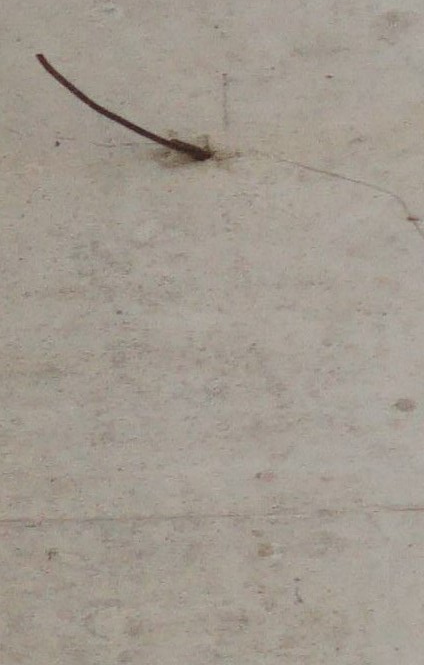Crack: (278, 158, 424, 237)
Exposed reinforcement: (35, 53, 212, 160)
